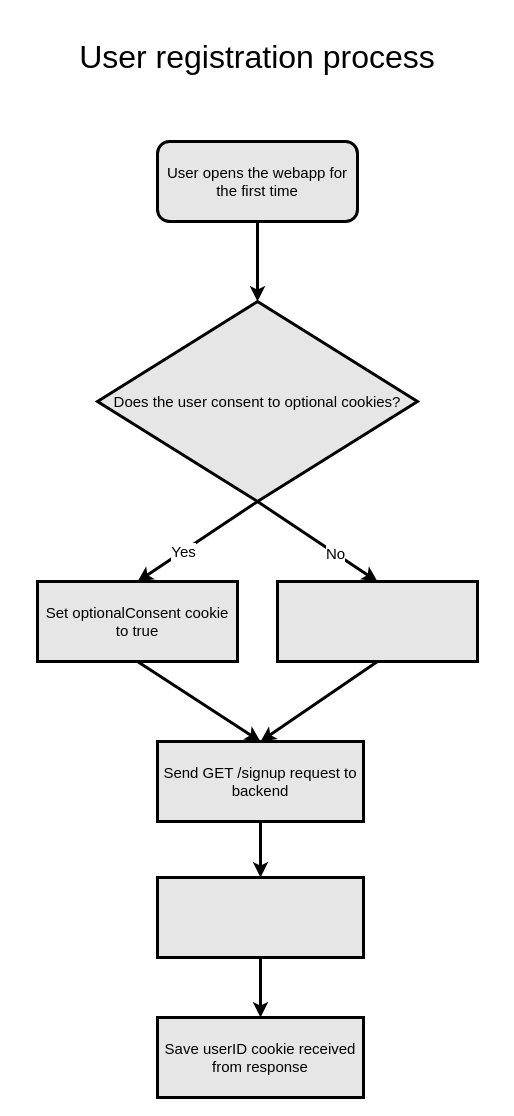
Image size: 514x1116. Some labels were removed from this diagram. Each missing label, with the centre of its shape:
Backend generates userID and returns it with a cookie in the response: (260,917)
Set optionalConsent cookie to false: (377,621)
